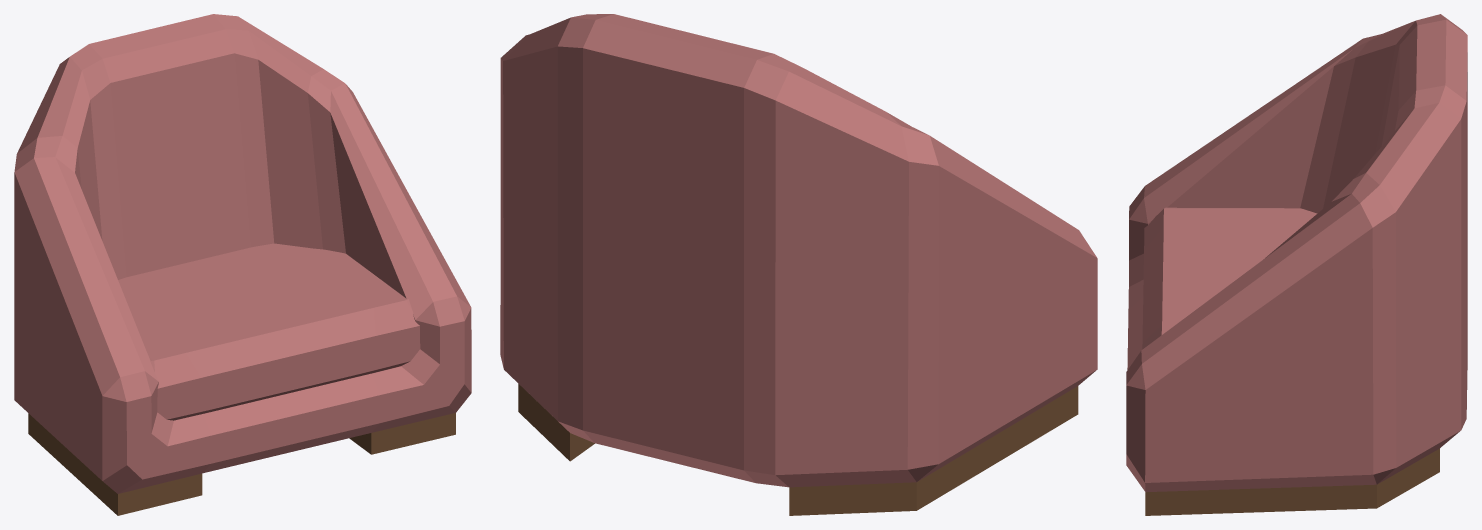
Rendered from Armchair_3.fbx.
The picture shows the model from 3 angles, left to right: view 1: azimuth 30°, elevation 25°; view 2: azimuth 150°, elevation 25°; view 3: azimuth 270°, elevation 25°; orthographic projection. The views are drawn at different scales.
Visible parts, largest first — view 1: Armchair_3; view 2: Armchair_3; view 3: Armchair_3.
Boxes of the visible parts, box(x1,y1,x2,y2) form: Armchair_3: box(14, 14, 471, 515); Armchair_3: box(500, 14, 1097, 515); Armchair_3: box(1126, 14, 1467, 515).
Bounding box in the file's own units: 135 × 99.77 × 121.
